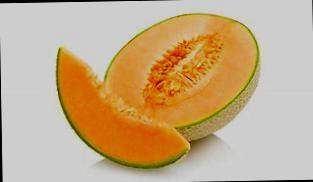Melon Ripe: (108, 12, 262, 139), (54, 44, 190, 170)
